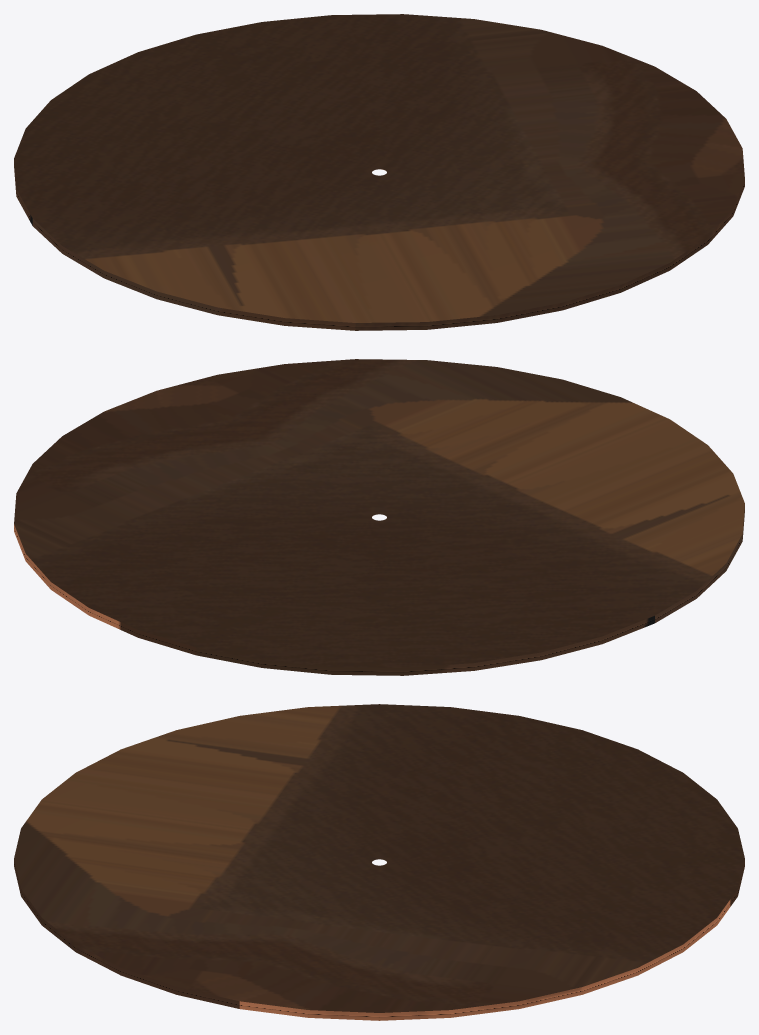
The model's file is DiscFixNewAnim.fbx.
3 views of the same model, one above another, from view 1: azimuth 30°, elevation 25°; view 2: azimuth 150°, elevation 25°; view 3: azimuth 270°, elevation 25° (orthographic).
Parts seen in each view (by area): view 1: AnyConv.com__PhonographUVFix; view 2: AnyConv.com__PhonographUVFix; view 3: AnyConv.com__PhonographUVFix.
Part boxes in pixels (left/top/right/bottom): AnyConv.com__PhonographUVFix: left=14, top=14, right=744, bottom=330; AnyConv.com__PhonographUVFix: left=14, top=359, right=744, bottom=675; AnyConv.com__PhonographUVFix: left=14, top=704, right=744, bottom=1020.
Bounding box in the file's own units: 927 × 10.91 × 927.
